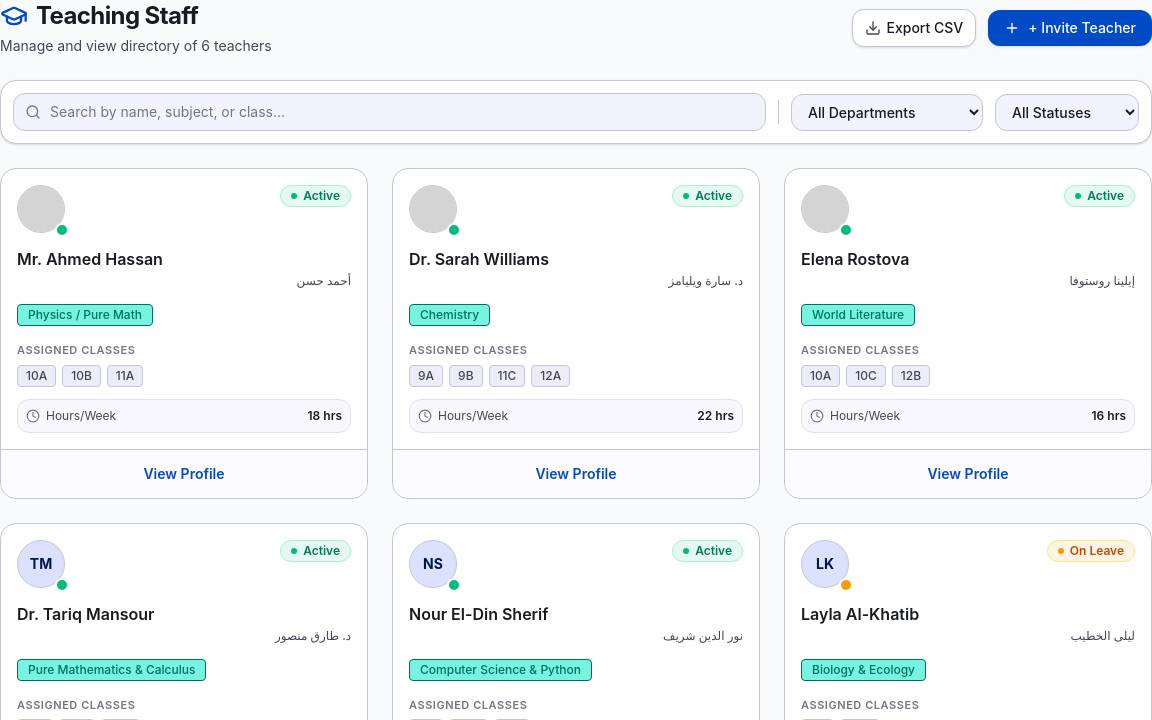
Scenario: TeachersPage (Teaching Staff Directory & 360° Profile Stitch Clone) › opens Teacher Details 360 profile drawer when View Profile is clicked
The image size is (1152, 720).
Click the button "View Profile" below "Physics / Pure Math" at [184, 474], box [11,460,357,488]
(page scrolled)
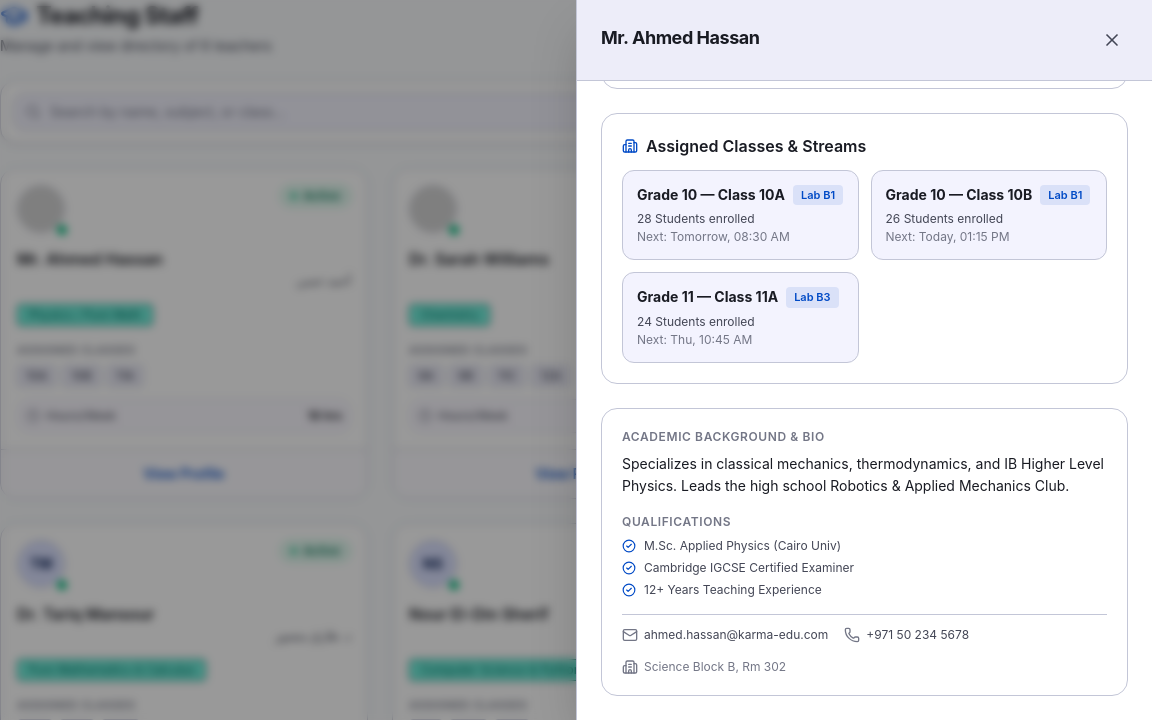
Expected: the text "Science Block B, Rm 302" is shown, [644,659,786,675]
Expected: the text "M.Sc. Applied Physics (Cairo Univ)" is shown, [644,538,841,554]
